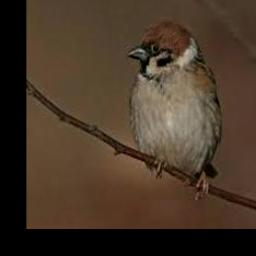Sparrow: (126, 20, 221, 199)
